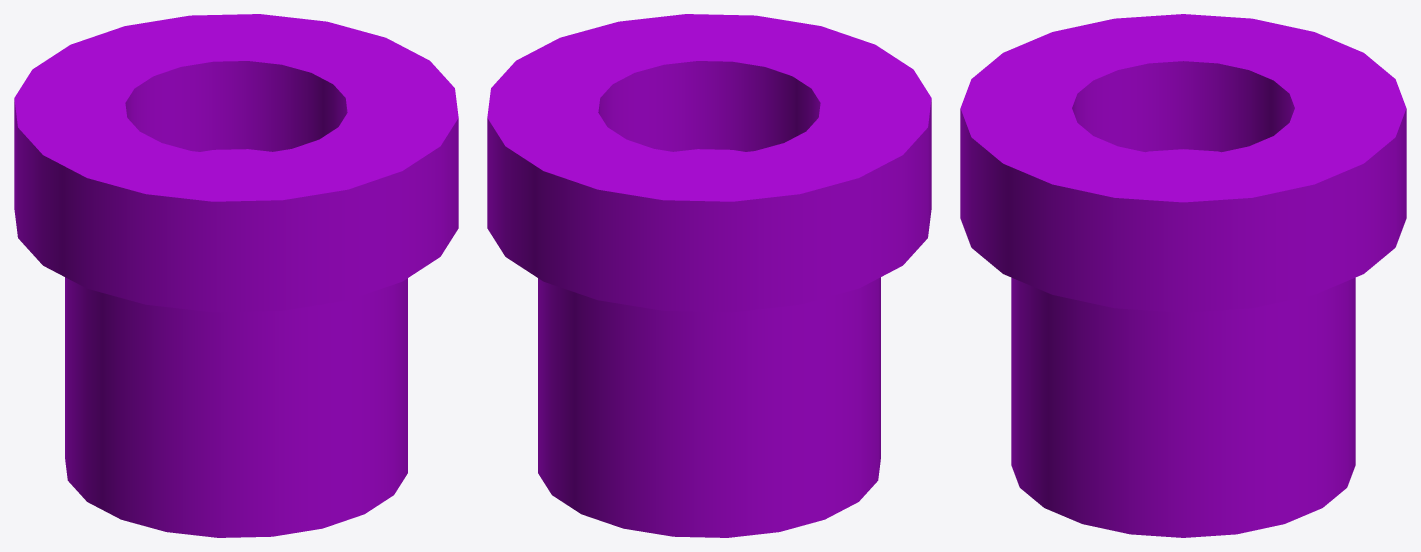
The model's file is dokan01.fbx.
The picture shows the model from 3 angles, left to right: view 1: azimuth 30°, elevation 25°; view 2: azimuth 150°, elevation 25°; view 3: azimuth 270°, elevation 25°; orthographic projection.
Visible parts, largest first — view 1: pPipe2; view 2: pPipe2; view 3: pPipe2.
Part boxes in pixels (x1,y1,x2,y2): pPipe2: (14, 14, 458, 537); pPipe2: (487, 14, 931, 537); pPipe2: (960, 14, 1406, 537).
Bounding box in the file's own units: 3.74 × 3.3 × 3.74.
